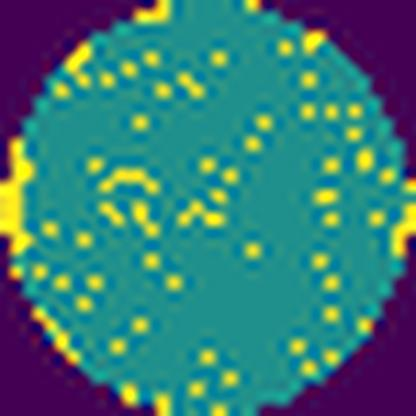Edge-Loc: (0, 137, 37, 257), (391, 197, 416, 262)
